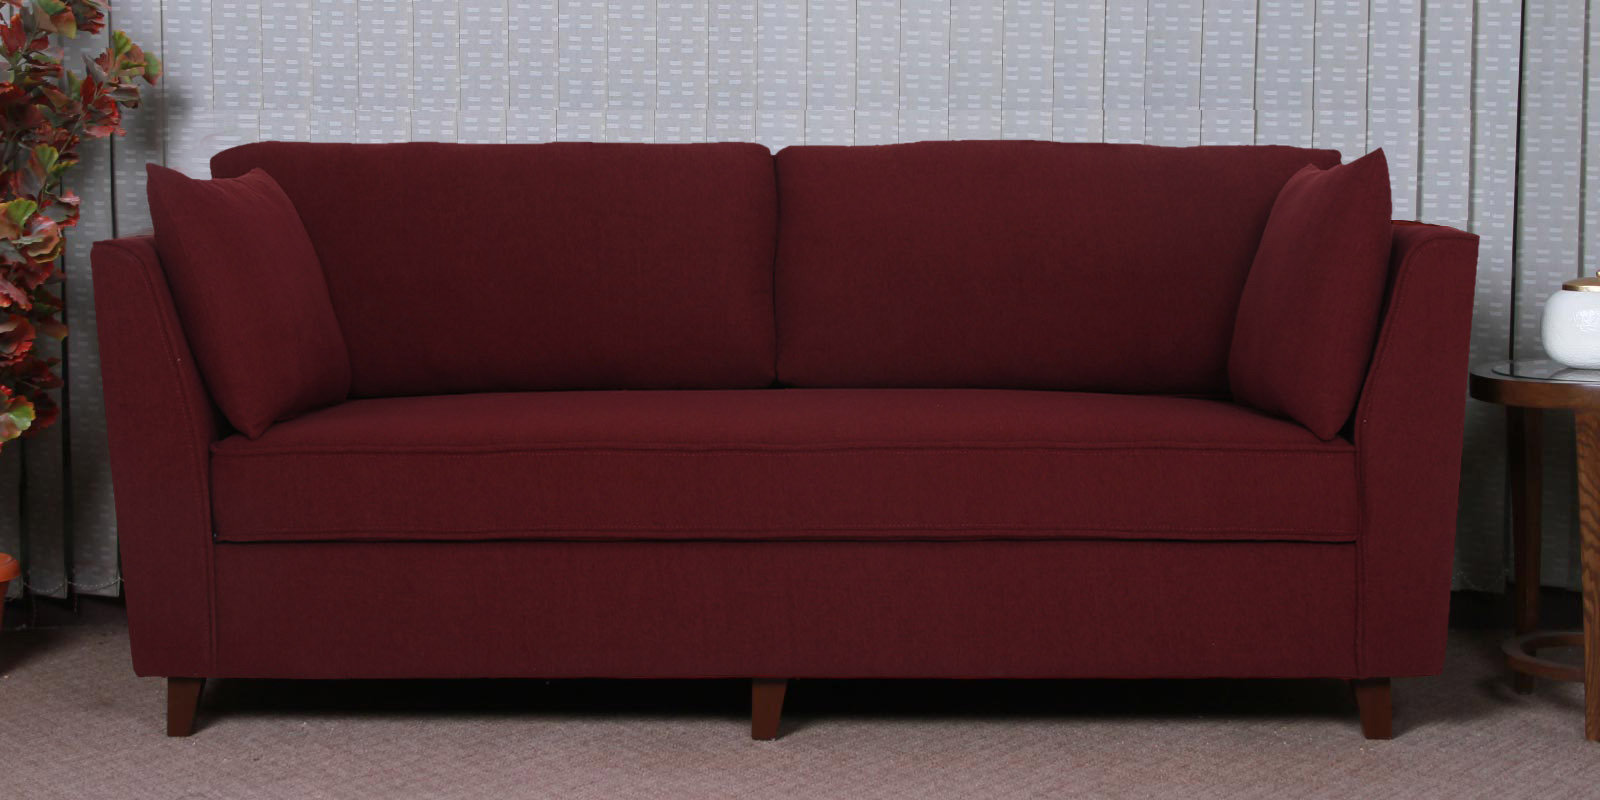Miranda Three Seater Sofa in Garnet Red Colour by CasaCraft: (92, 134, 1480, 744)
